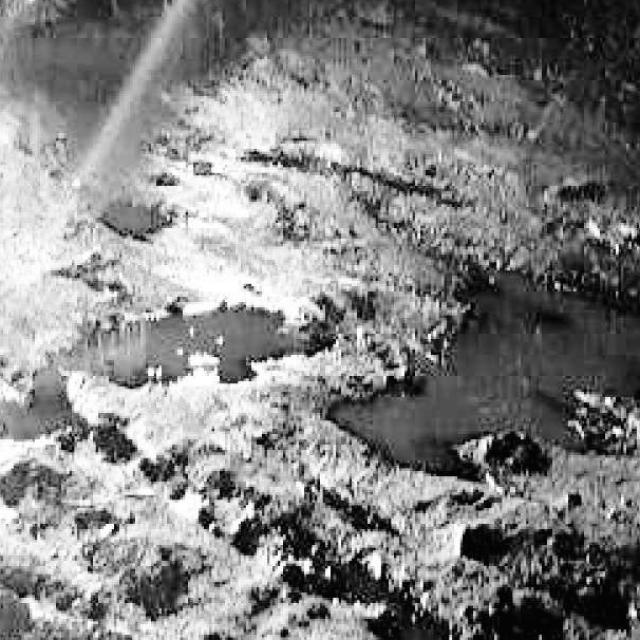Pothole: (308, 240, 640, 490), (1, 256, 330, 470)
